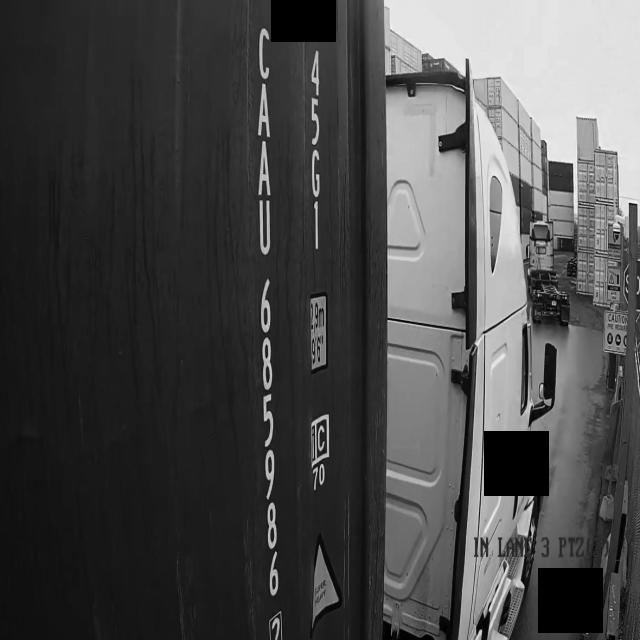container_side_no: (252, 7, 294, 638)
truck_with_container: (0, 0, 556, 640)
truck_without_container: (528, 220, 569, 326)
